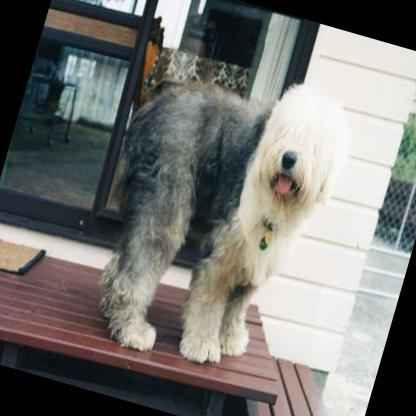Old_English_sheepdog: (72, 40, 361, 388)
